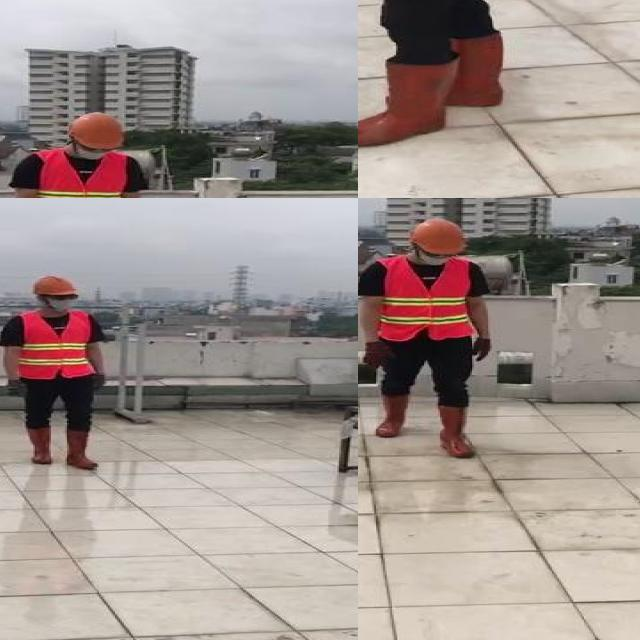boots: (358, 60, 447, 147), (444, 35, 501, 108), (435, 405, 477, 458), (370, 391, 410, 440), (62, 428, 99, 469), (22, 426, 52, 465)
face_mask: (46, 292, 78, 310)
glasses: (48, 291, 82, 302)
hand_glove: (362, 341, 396, 369), (468, 337, 492, 361), (90, 372, 110, 393), (7, 379, 26, 399)
head_helmet: (70, 111, 123, 151), (412, 218, 466, 256), (30, 275, 80, 296)
person: (358, 216, 498, 460), (358, 0, 519, 154), (0, 273, 123, 470), (0, 111, 156, 198)
vest: (378, 256, 479, 339), (19, 311, 95, 380), (32, 149, 126, 198)
